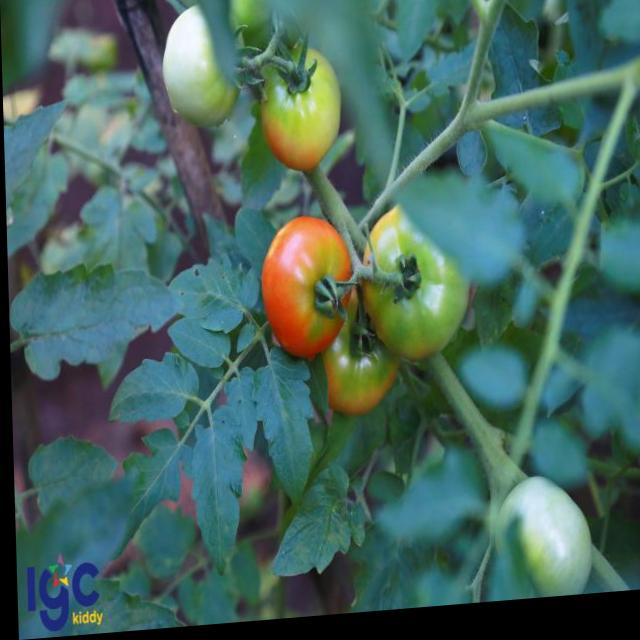sari: (260, 215, 373, 362)
yesil: (166, 0, 368, 171)
